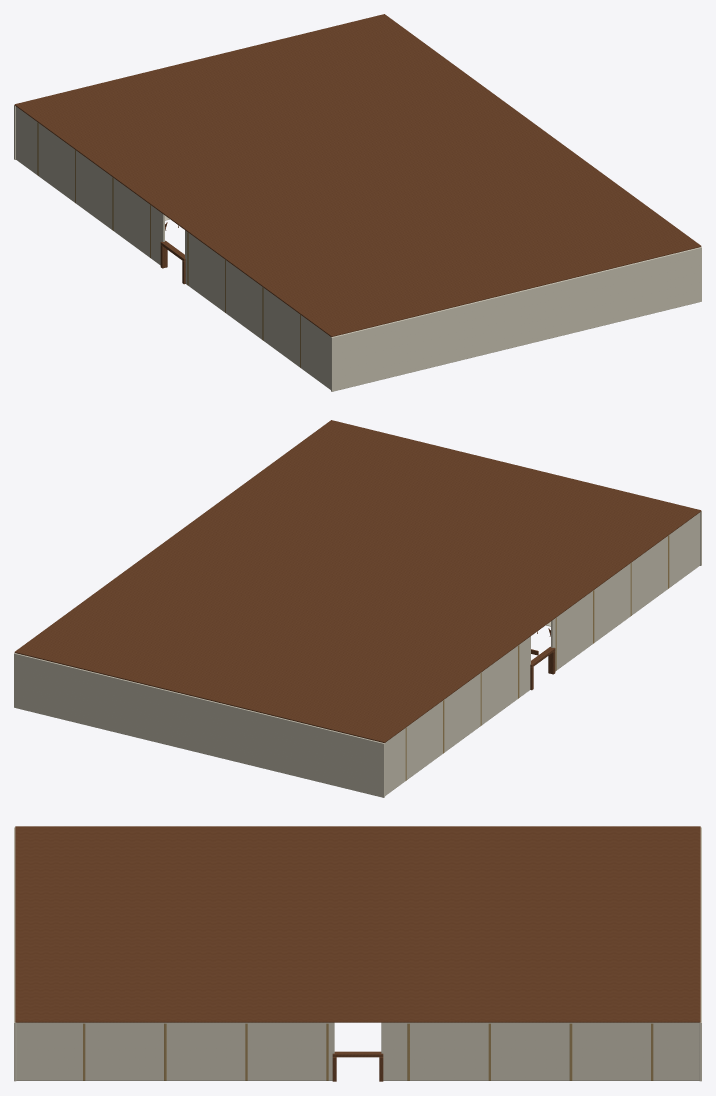
File: SOL_D10_directory_10_source001.glb
3 views of the same model, one above another, from view 1: azimuth 30°, elevation 25°; view 2: azimuth 150°, elevation 25°; view 3: azimuth 270°, elevation 25° (orthographic). The views are drawn at different scales.
Parts seen in each view (by area): view 1: E_ceiling, E_outer_north, E_outer_west0, E_outer_west1; view 2: E_ceiling, E_outer_south, E_outer_west1, E_outer_west0; view 3: E_ceiling, E_outer_east1, E_outer_east0, E_outer_south, E_outer_north.
Boxes of the visible parts, bbox=[...] form: E_ceiling: bbox=[14, 14, 701, 336]; E_outer_north: bbox=[331, 247, 701, 391]; E_outer_west0: bbox=[16, 106, 164, 265]; E_outer_west1: bbox=[185, 230, 330, 389]; E_ceiling: bbox=[14, 420, 701, 742]; E_outer_south: bbox=[14, 653, 384, 797]; E_outer_west1: bbox=[551, 512, 699, 670]; E_outer_west0: bbox=[385, 636, 530, 795]; E_ceiling: bbox=[15, 826, 700, 1022]; E_outer_east1: bbox=[16, 1022, 334, 1080]; E_outer_east0: bbox=[381, 1022, 699, 1080]; E_outer_south: bbox=[699, 827, 701, 1081]; E_outer_north: bbox=[14, 827, 16, 1081].
Bounding box in the file's own units: 45.75 × 6.54 × 67.84.
27 materials, 27 textured.
